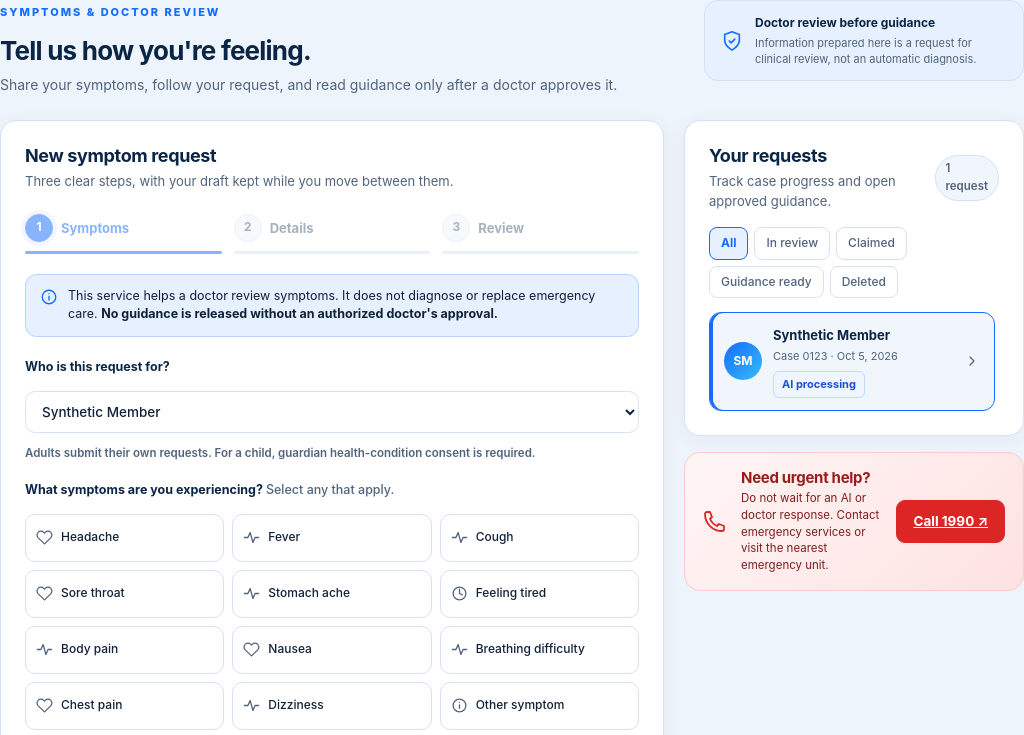
Test: patient request popup › requires withdrawal confirmation and keeps the original audit history wording
Click the button "SM Synthetic Member Case 0123 · Oct 5, 2026 AI processing". click: {"x": 852, "y": 361}
box: [709,312,995,410]
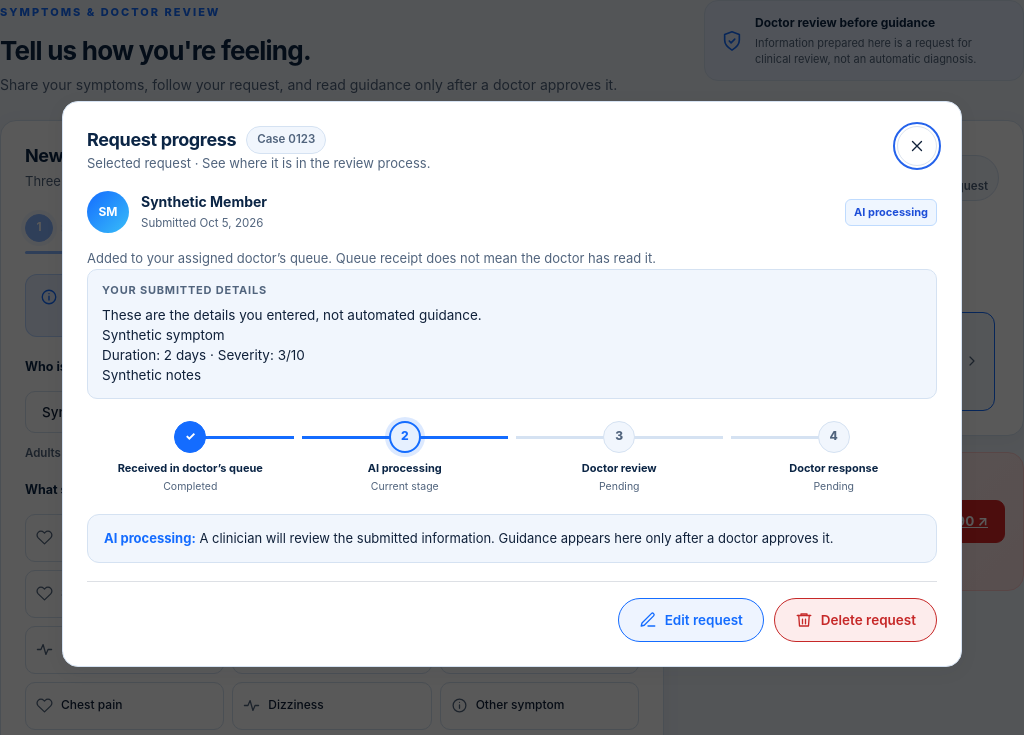
Click the button "Delete request". click: {"x": 855, "y": 620}
box: [774,598,937,642]
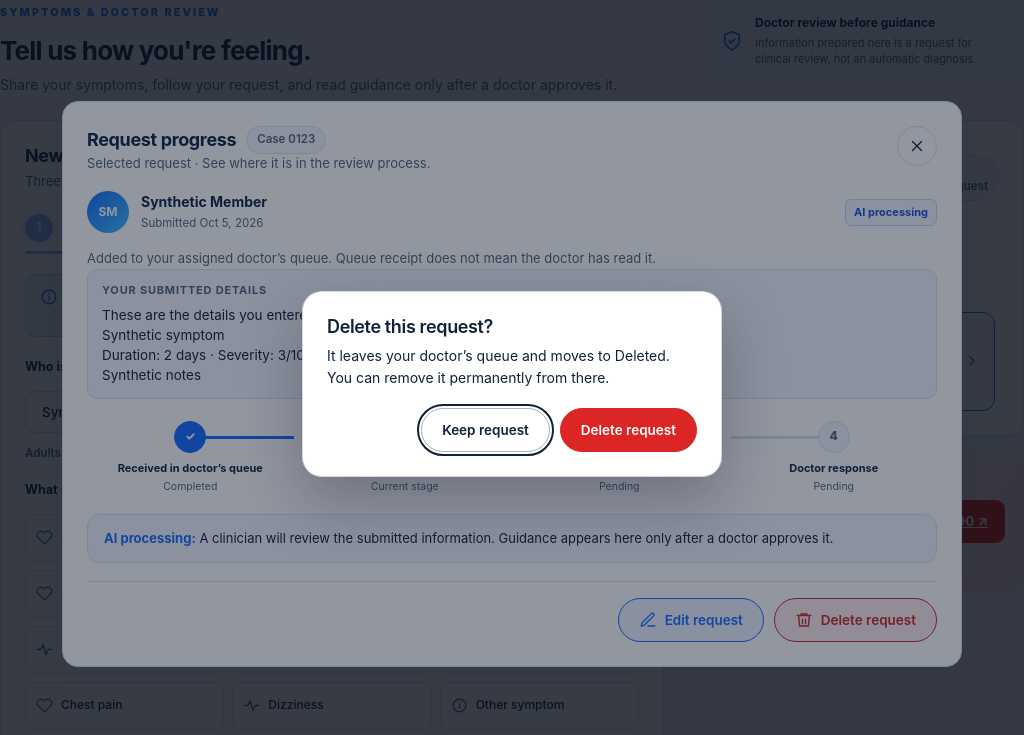
Click the button "Keep request". click: {"x": 486, "y": 430}
box: [421,408,550,452]
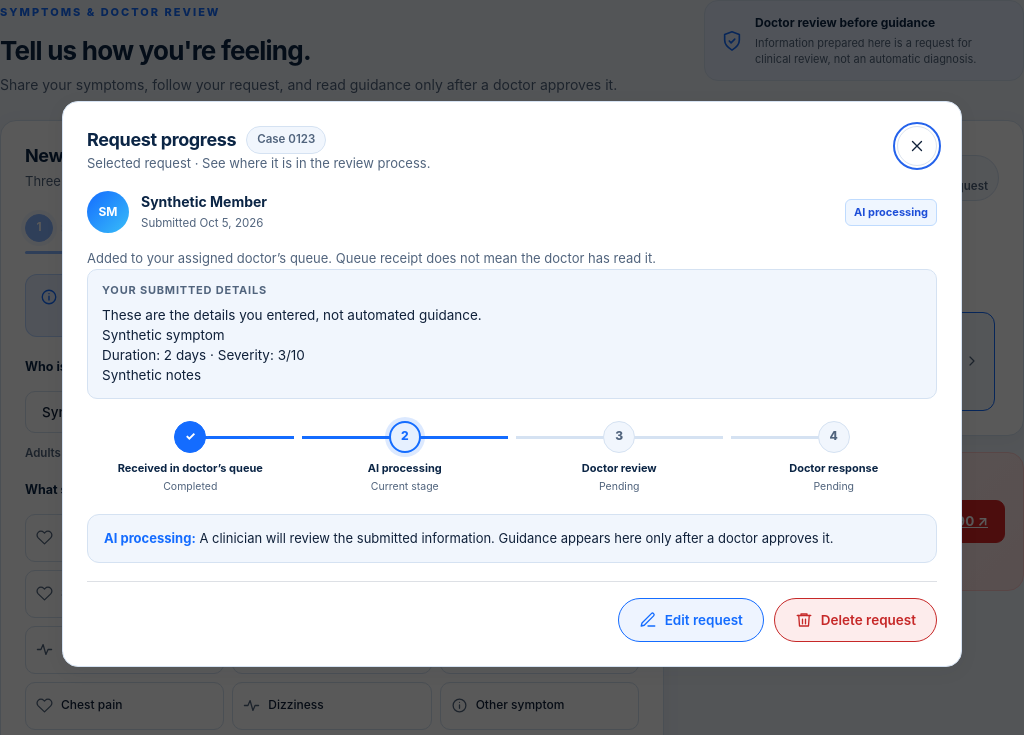
Click the button "Delete request". click: {"x": 855, "y": 620}
box: [774,598,937,642]
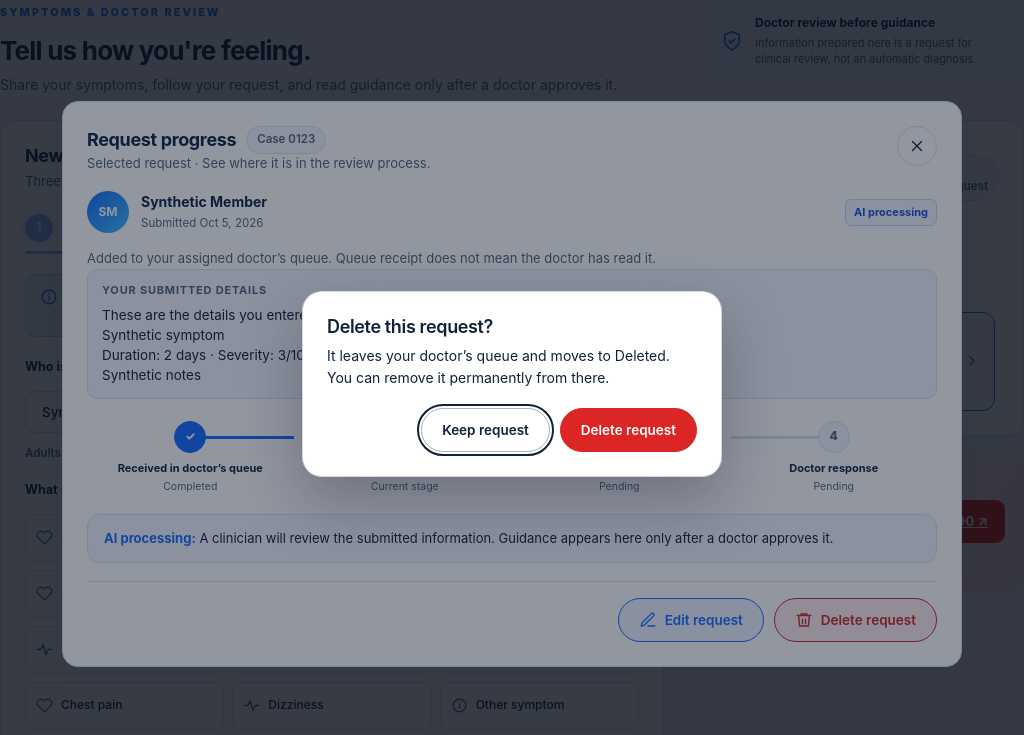
Click the button "Delete request". click: {"x": 628, "y": 430}
box: [560,408,697,452]
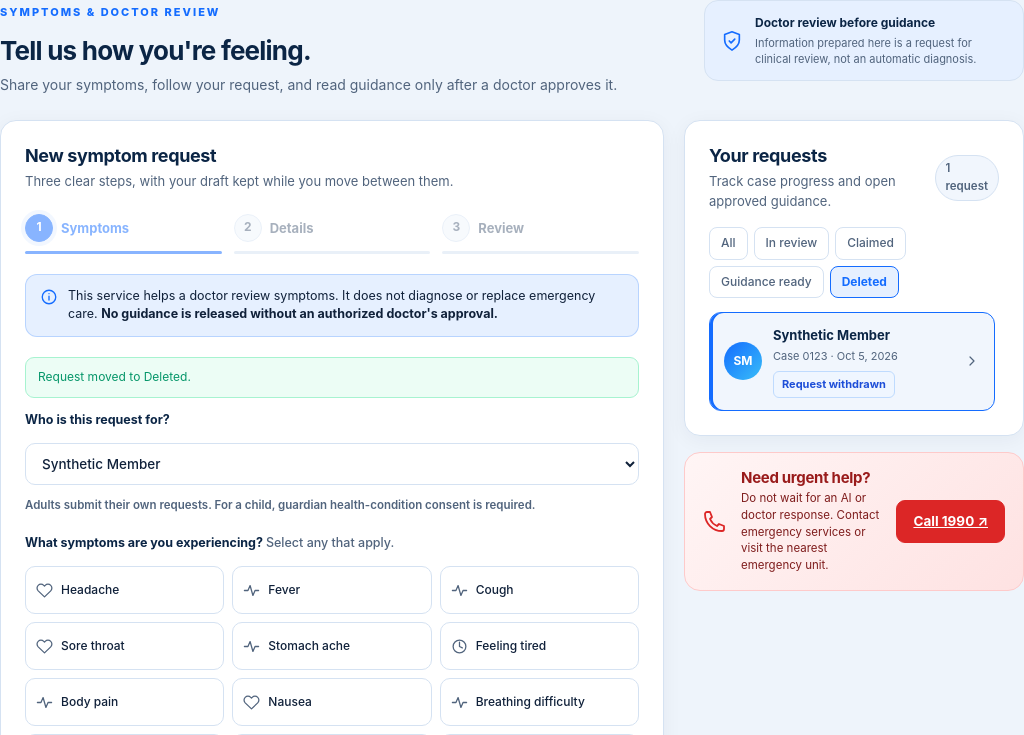
Expected: the text "Request moved to Deleted." is shown, [25,357,639,398]
